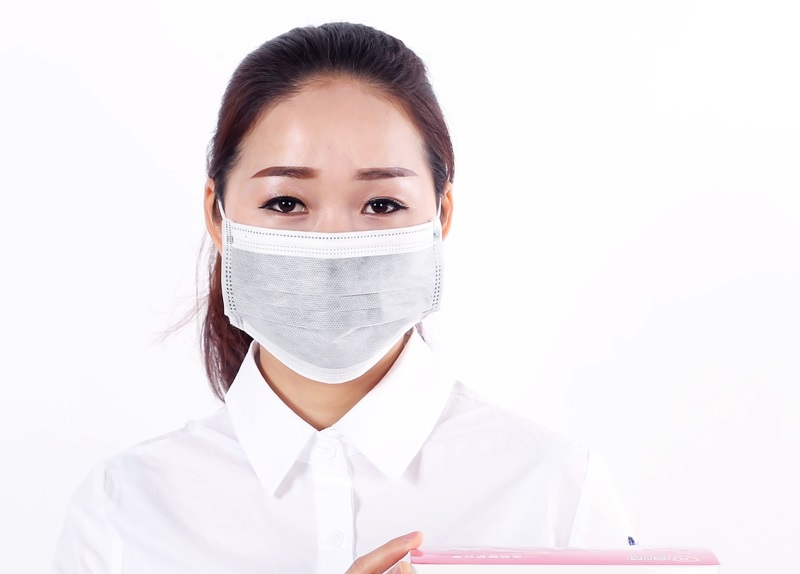face_mask: (221, 82, 442, 381)
